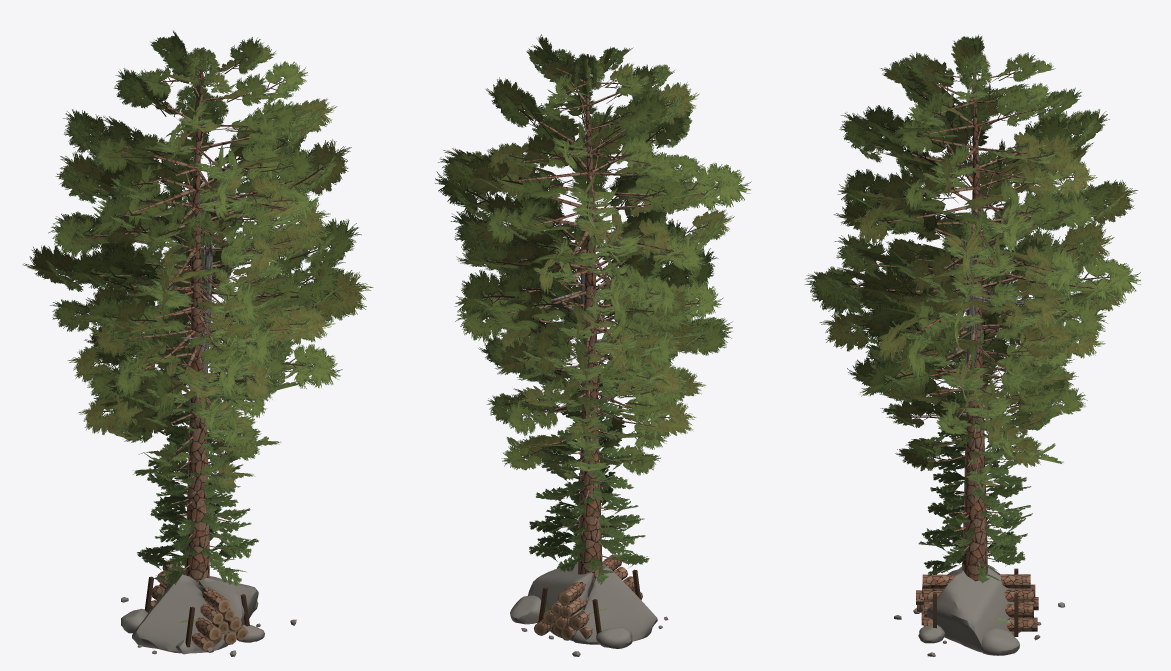
File: nature.glb
3 views of the same model, side by side, from view 1: azimuth 30°, elevation 25°; view 2: azimuth 150°, elevation 25°; view 3: azimuth 270°, elevation 25° (orthographic). The views are drawn at different scales.
Parts seen in each view (by area): view 1: pine_a, pine_b, pine_c, boulder_c, log_pile, rock_cluster, pine_dead; view 2: pine_a, pine_b, pine_c, boulder_c, log_pile, rock_cluster; view 3: pine_a, pine_b, pine_c, boulder_c, log_pile, rock_cluster, pine_dead.
Boxes of the visible parts, x1=… form: pine_a: x1=22, y1=30, x2=373, y2=584; pine_b: x1=67, y1=209, x2=335, y2=559; pine_c: x1=137, y1=343, x2=258, y2=586; boulder_c: x1=132, y1=573, x2=258, y2=653; log_pile: x1=144, y1=560, x2=249, y2=652; rock_cluster: x1=121, y1=597, x2=296, y2=656; pine_dead: x1=181, y1=234, x2=239, y2=516; pine_a: x1=435, y1=34, x2=751, y2=585; pine_b: x1=478, y1=214, x2=699, y2=525; pine_c: x1=529, y1=334, x2=649, y2=585; boulder_c: x1=528, y1=562, x2=657, y2=644; log_pile: x1=534, y1=554, x2=642, y2=640; rock_cluster: x1=510, y1=589, x2=668, y2=656; pine_a: x1=805, y1=34, x2=1140, y2=581; pine_b: x1=847, y1=209, x2=1087, y2=555; pine_c: x1=918, y1=327, x2=1032, y2=583; boulder_c: x1=922, y1=566, x2=1020, y2=652; log_pile: x1=916, y1=568, x2=1038, y2=636; rock_cluster: x1=894, y1=602, x2=1064, y2=656; pine_dead: x1=895, y1=239, x2=1039, y2=507.
Size of the model in its own units: 9.98 by 17.9 by 9.84.
Materials: 9 (6 with a texture image).
